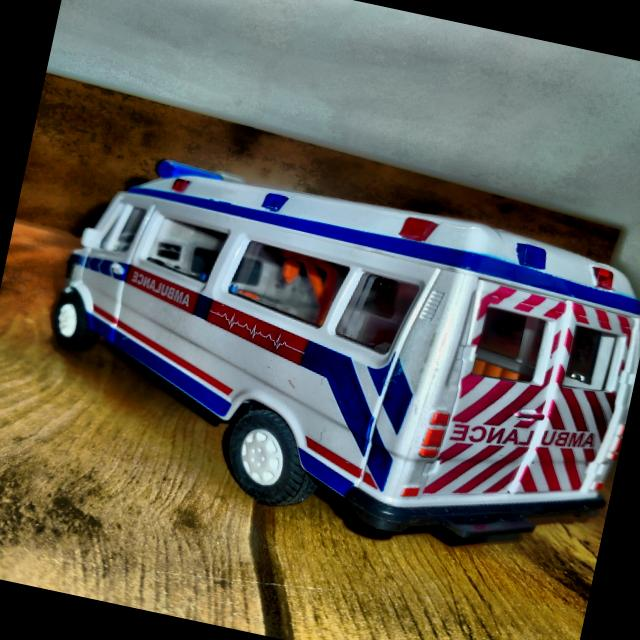Ambulance: (25, 141, 640, 573)
